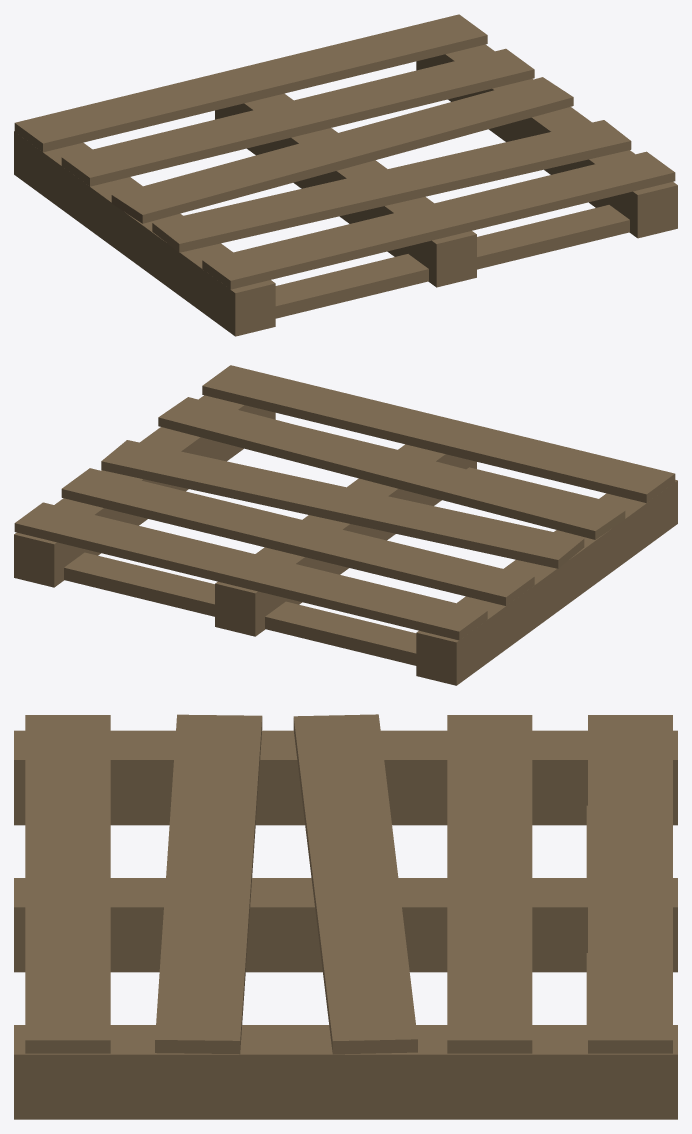
The model's file is pallet.glb.
3 renders of one model, top to bottom at view 1: azimuth 30°, elevation 25°; view 2: azimuth 150°, elevation 25°; view 3: azimuth 270°, elevation 25°, orthographic. The views are drawn at different scales.
Visible parts, largest first — view 1: prop_pallet; view 2: prop_pallet; view 3: prop_pallet.
Boxes of the visible parts, box(x1,y1,x2,y2) form: prop_pallet: box(14, 14, 677, 336); prop_pallet: box(14, 365, 677, 685); prop_pallet: box(14, 714, 677, 1119).
Bounding box in the file's own units: 1.2 × 0.1367 × 1.03.
